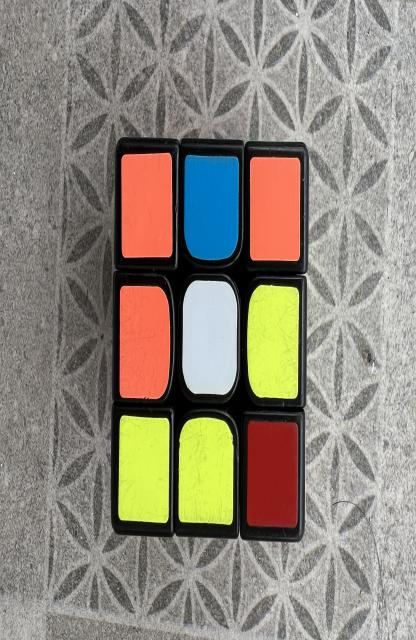Blue: (184, 155, 239, 260)
Orange: (119, 287, 170, 398), (121, 153, 172, 258), (250, 157, 300, 262)
Red: (247, 420, 298, 528)
White: (182, 280, 237, 395)
Yellow: (179, 417, 234, 525), (247, 285, 299, 398), (118, 415, 170, 523)
